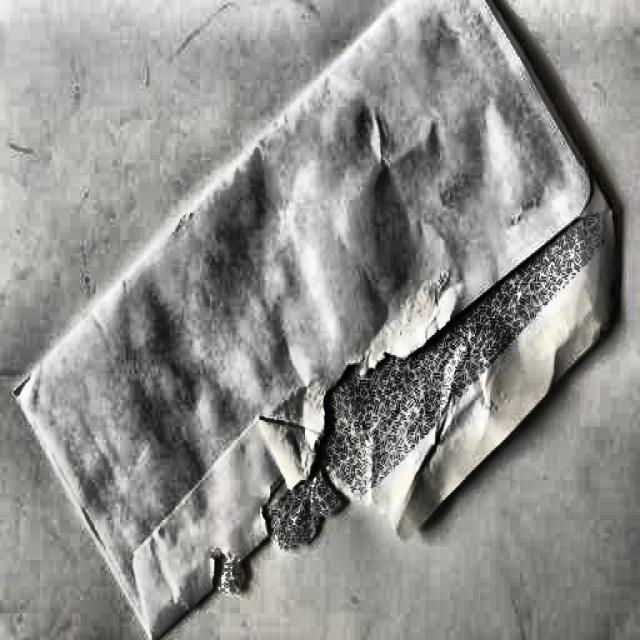paper: (68, 5, 628, 640)
